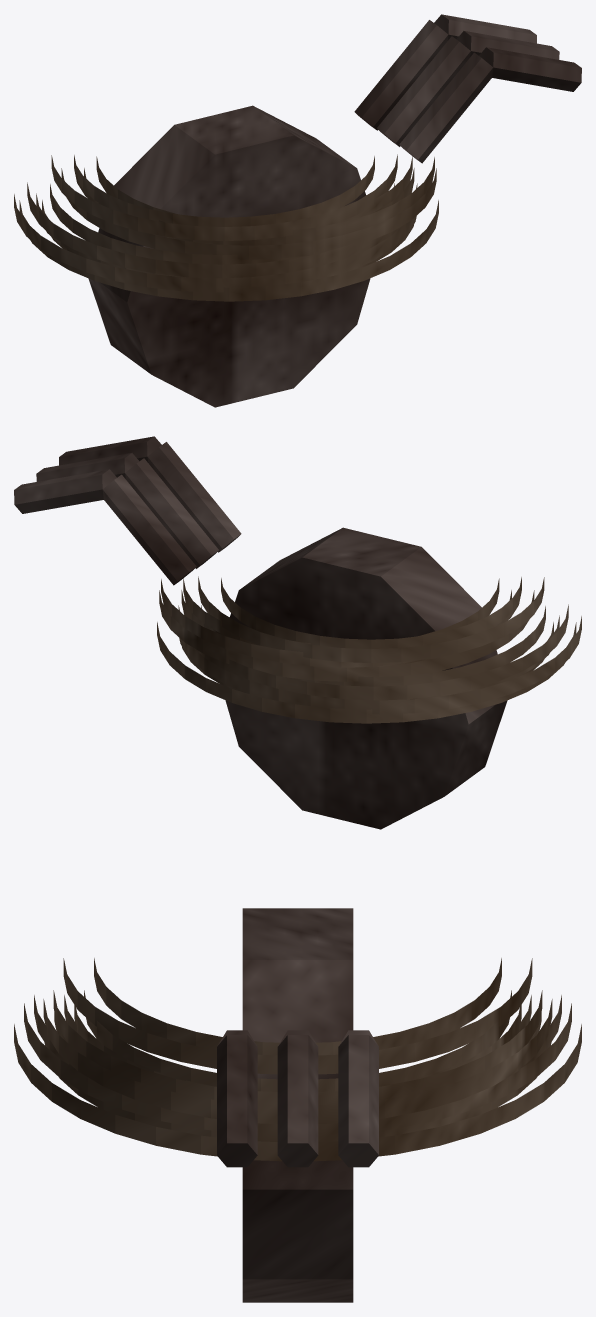
Rendered from 0961_rope_coil_11.glb.
3 views of the same model, one above another, from view 1: azimuth 30°, elevation 25°; view 2: azimuth 150°, elevation 25°; view 3: azimuth 270°, elevation 25° (orthographic). The views are drawn at different scales.
Visible parts, largest first — view 1: wood_dark, wood; view 2: wood_dark, wood; view 3: wood, wood_dark.
Part boxes in pixels (box(x1,y1,x2,y2)): wood_dark: box(88, 14, 581, 407); wood: box(14, 154, 438, 301); wood_dark: box(14, 436, 507, 829); wood: box(157, 576, 581, 723); wood: box(14, 958, 581, 1161); wood_dark: box(217, 908, 378, 1302).
Size of the model in its own units: 1.46 by 0.7922 by 1.03.
Materials: 2 (2 with a texture image).
